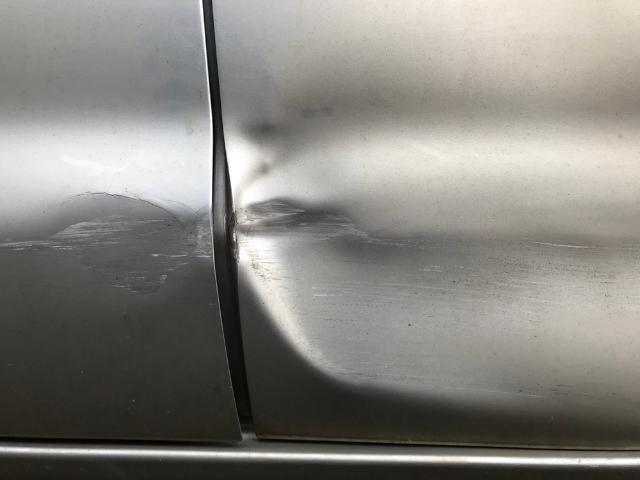dent: (233, 59, 640, 402)
scratch: (0, 204, 215, 293)
